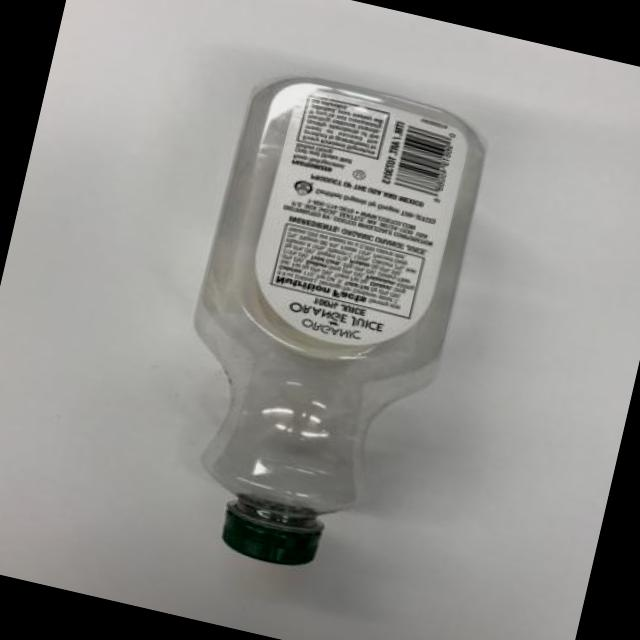bottle: (196, 79, 482, 564)
plastic: (195, 79, 482, 564)
